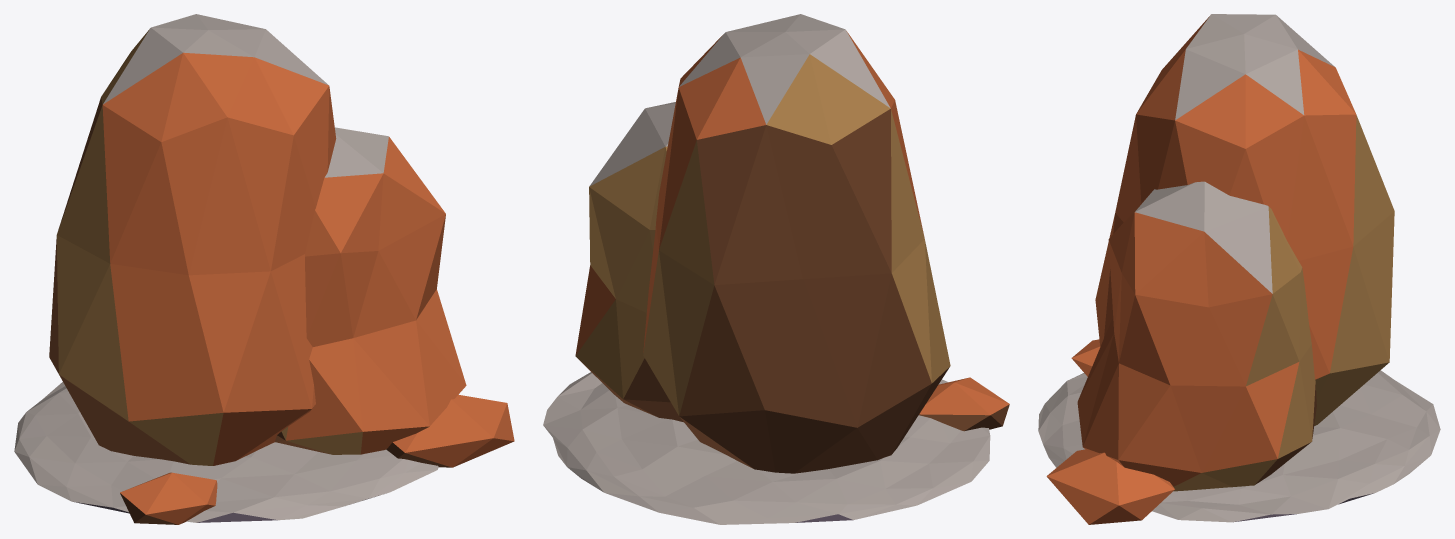
Rendered from TuffRockB.fbx.
The picture shows the model from 3 angles, left to right: view 1: azimuth 30°, elevation 25°; view 2: azimuth 150°, elevation 25°; view 3: azimuth 270°, elevation 25°; orthographic projection. The views are drawn at different scales.
Visible parts, largest first — view 1: TuffRockB; view 2: TuffRockB; view 3: TuffRockB.
Part boxes in pixels (box(x1,y1,x2,y2)): TuffRockB: box(14, 14, 514, 524); TuffRockB: box(543, 14, 1009, 524); TuffRockB: box(1038, 14, 1440, 524).
Bounding box in the file's own units: 1.79 × 1.69 × 1.6.
Materials: 1 (1 with a texture image).
